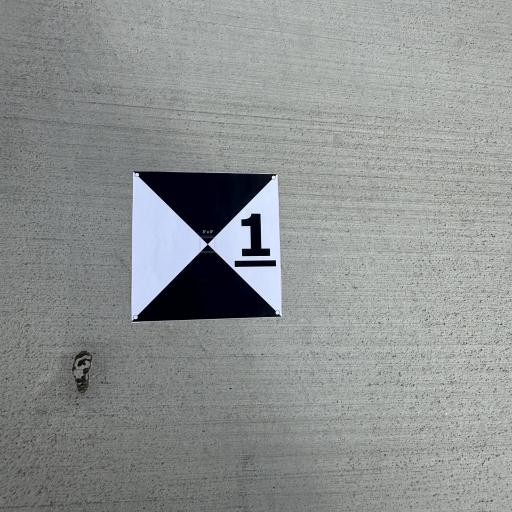target1: (126, 164, 292, 328)
